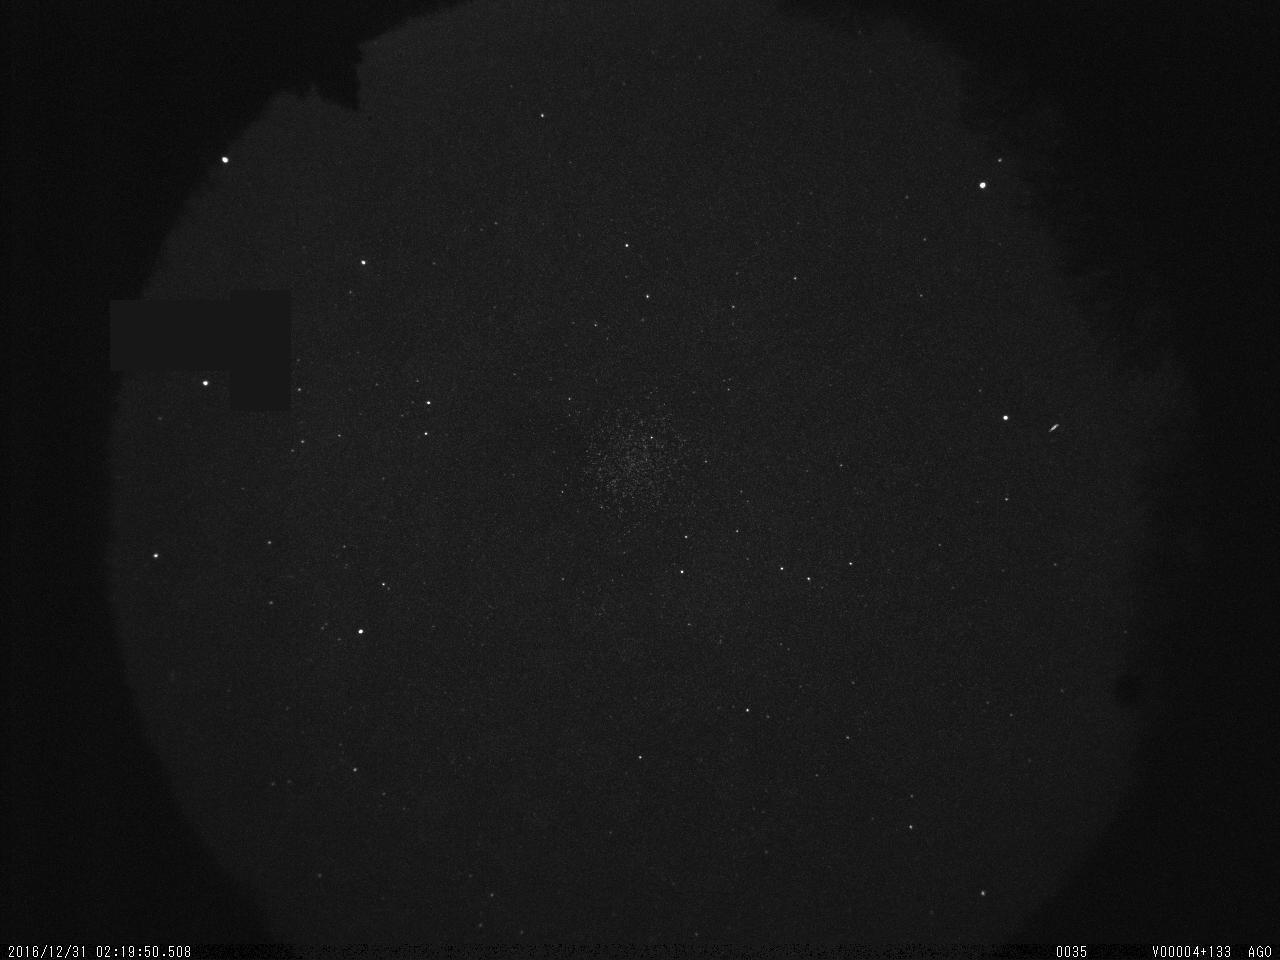Meteor: (1041, 418, 1067, 441)
